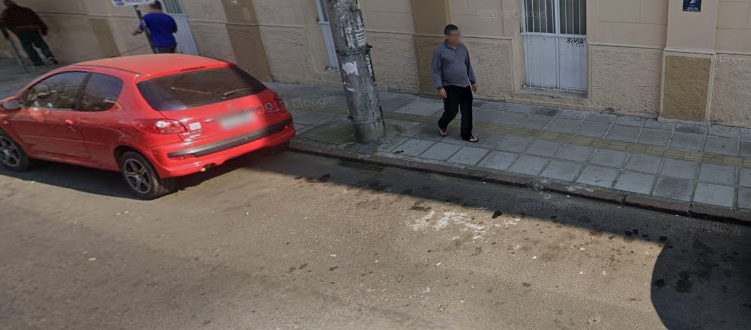vag26: (292, 79, 751, 295)
